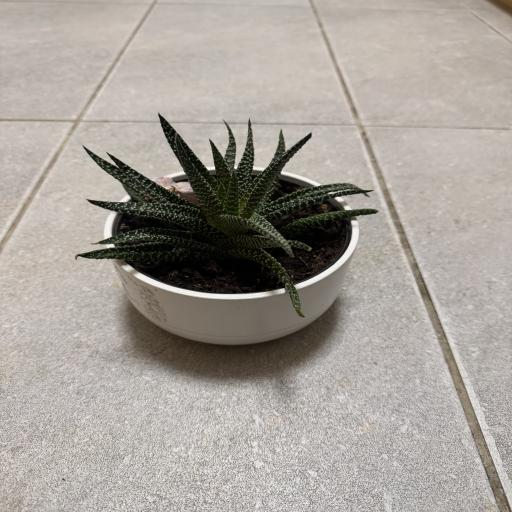Plant Pot: (102, 167, 361, 345)
